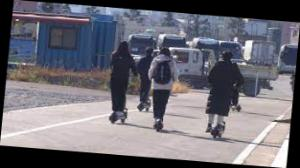nonhelmet: (201, 51, 240, 142), (103, 37, 139, 126), (145, 47, 180, 130), (132, 46, 157, 111), (224, 62, 246, 113)
